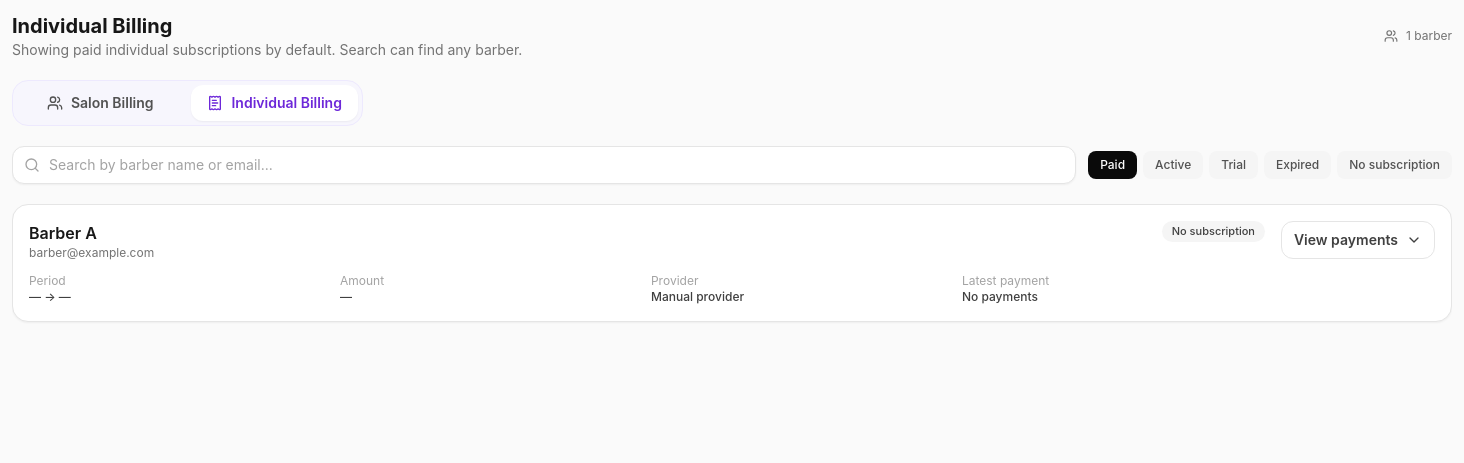
Scenario: PlatformIndividualBillingPage payment request lifecycle › renders record transactions separately from operational payment attempts
Expected: the heading "Barber A" is shown, x1=29 y1=223 x2=97 y2=243
What coordinates should you click on to do the following:
click the button "View payments"
I would click on:
 (1358, 240)
Its box is x1=1281 y1=221 x2=1435 y2=259.
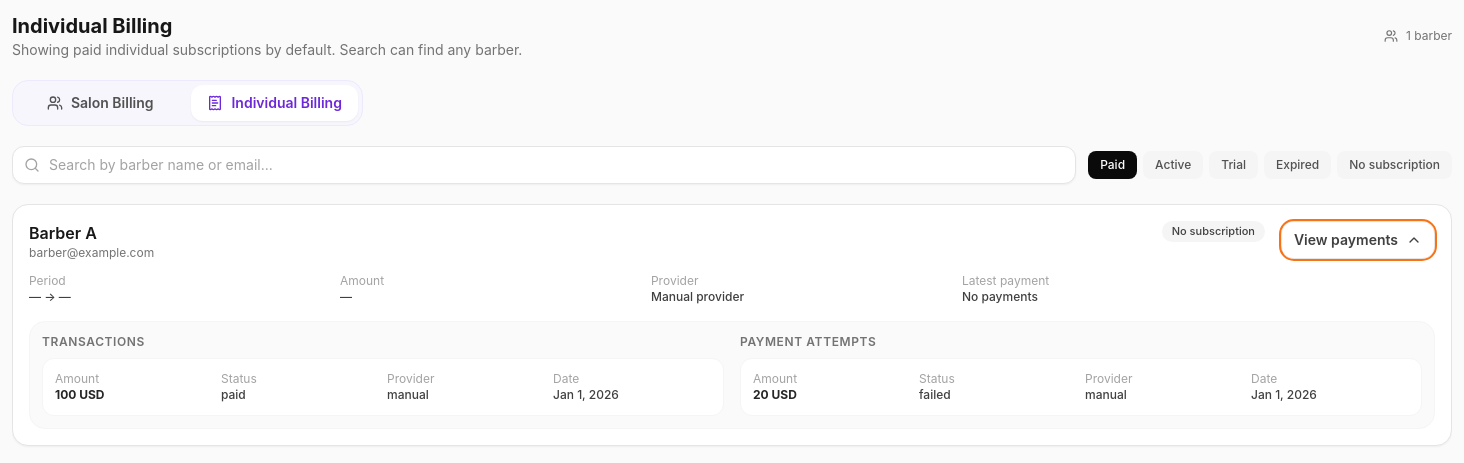
Expected: the heading "Transactions" is shown, x1=42 y1=334 x2=145 y2=349
Expected: the heading "Payment Attempts" is shown, x1=740 y1=334 x2=876 y2=349
Expected: the element labelled "Transactions" shows "100 USD", x1=55 y1=387 x2=104 y2=402
